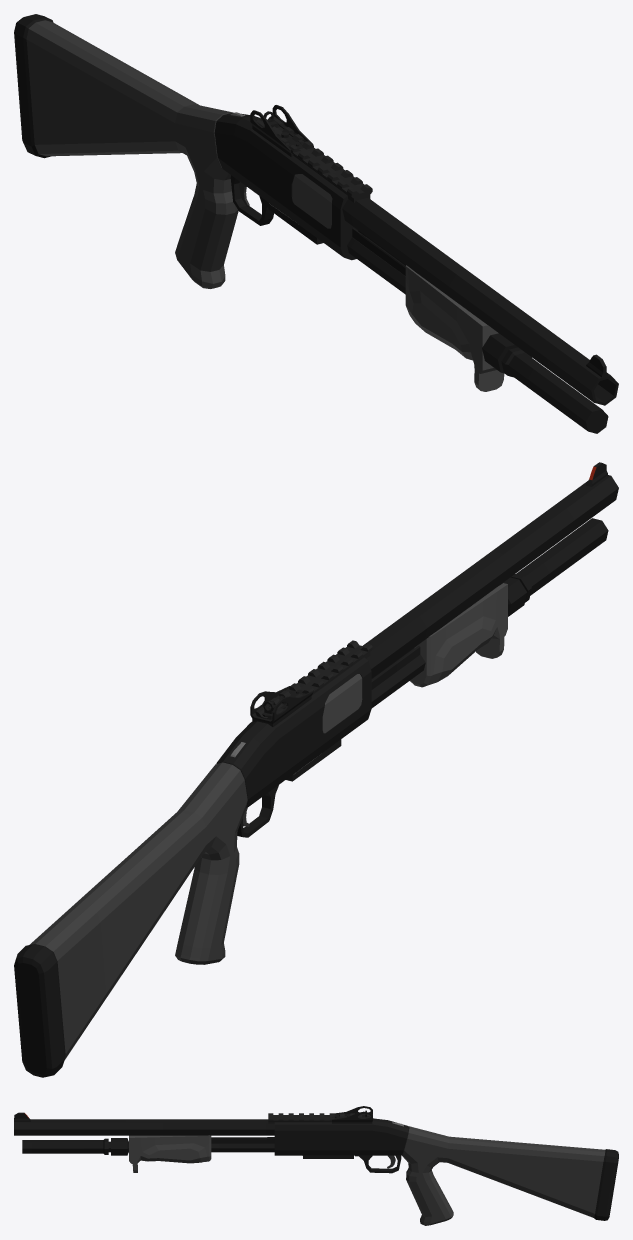
Rendered from Shotgun_1.fbx.
The picture shows the model from 3 angles, top to bottom: view 1: azimuth 30°, elevation 25°; view 2: azimuth 150°, elevation 25°; view 3: azimuth 270°, elevation 25°; orthographic projection. The views are drawn at different scales.
Parts seen in each view (by area): view 1: Shotgun_1, Shotgun_1 Chargin Handle, Shotgun_1 Rail, Shotgun_1 Iron Sight; view 2: Shotgun_1, Shotgun_1 Chargin Handle, Shotgun_1 Rail, Shotgun_1 Iron Sight; view 3: Shotgun_1, Shotgun_1 Chargin Handle, Shotgun_1 Rail, Shotgun_1 Iron Sight.
Boxes of the visible parts, x1,y1,x2,y2 form: Shotgun_1: [14, 14, 618, 433]; Shotgun_1 Chargin Handle: [292, 174, 504, 391]; Shotgun_1 Rail: [256, 116, 372, 202]; Shotgun_1 Iron Sight: [250, 105, 313, 156]; Shotgun_1: [14, 462, 618, 1077]; Shotgun_1 Chargin Handle: [322, 583, 507, 733]; Shotgun_1 Rail: [255, 640, 372, 719]; Shotgun_1 Iron Sight: [250, 686, 313, 726]; Shotgun_1: [14, 1112, 618, 1225]; Shotgun_1 Chargin Handle: [129, 1135, 211, 1172]; Shotgun_1 Rail: [268, 1113, 370, 1123]; Shotgun_1 Iron Sight: [332, 1106, 372, 1123].
Size of the model in its own units: 11.57 by 72.68 by 346.
